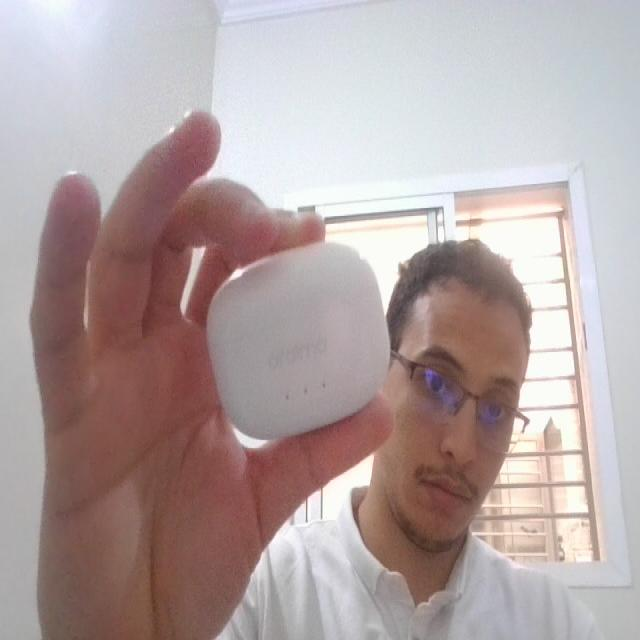airpods: (205, 234, 399, 447)
